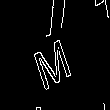M_NW: (32, 22, 78, 88)
